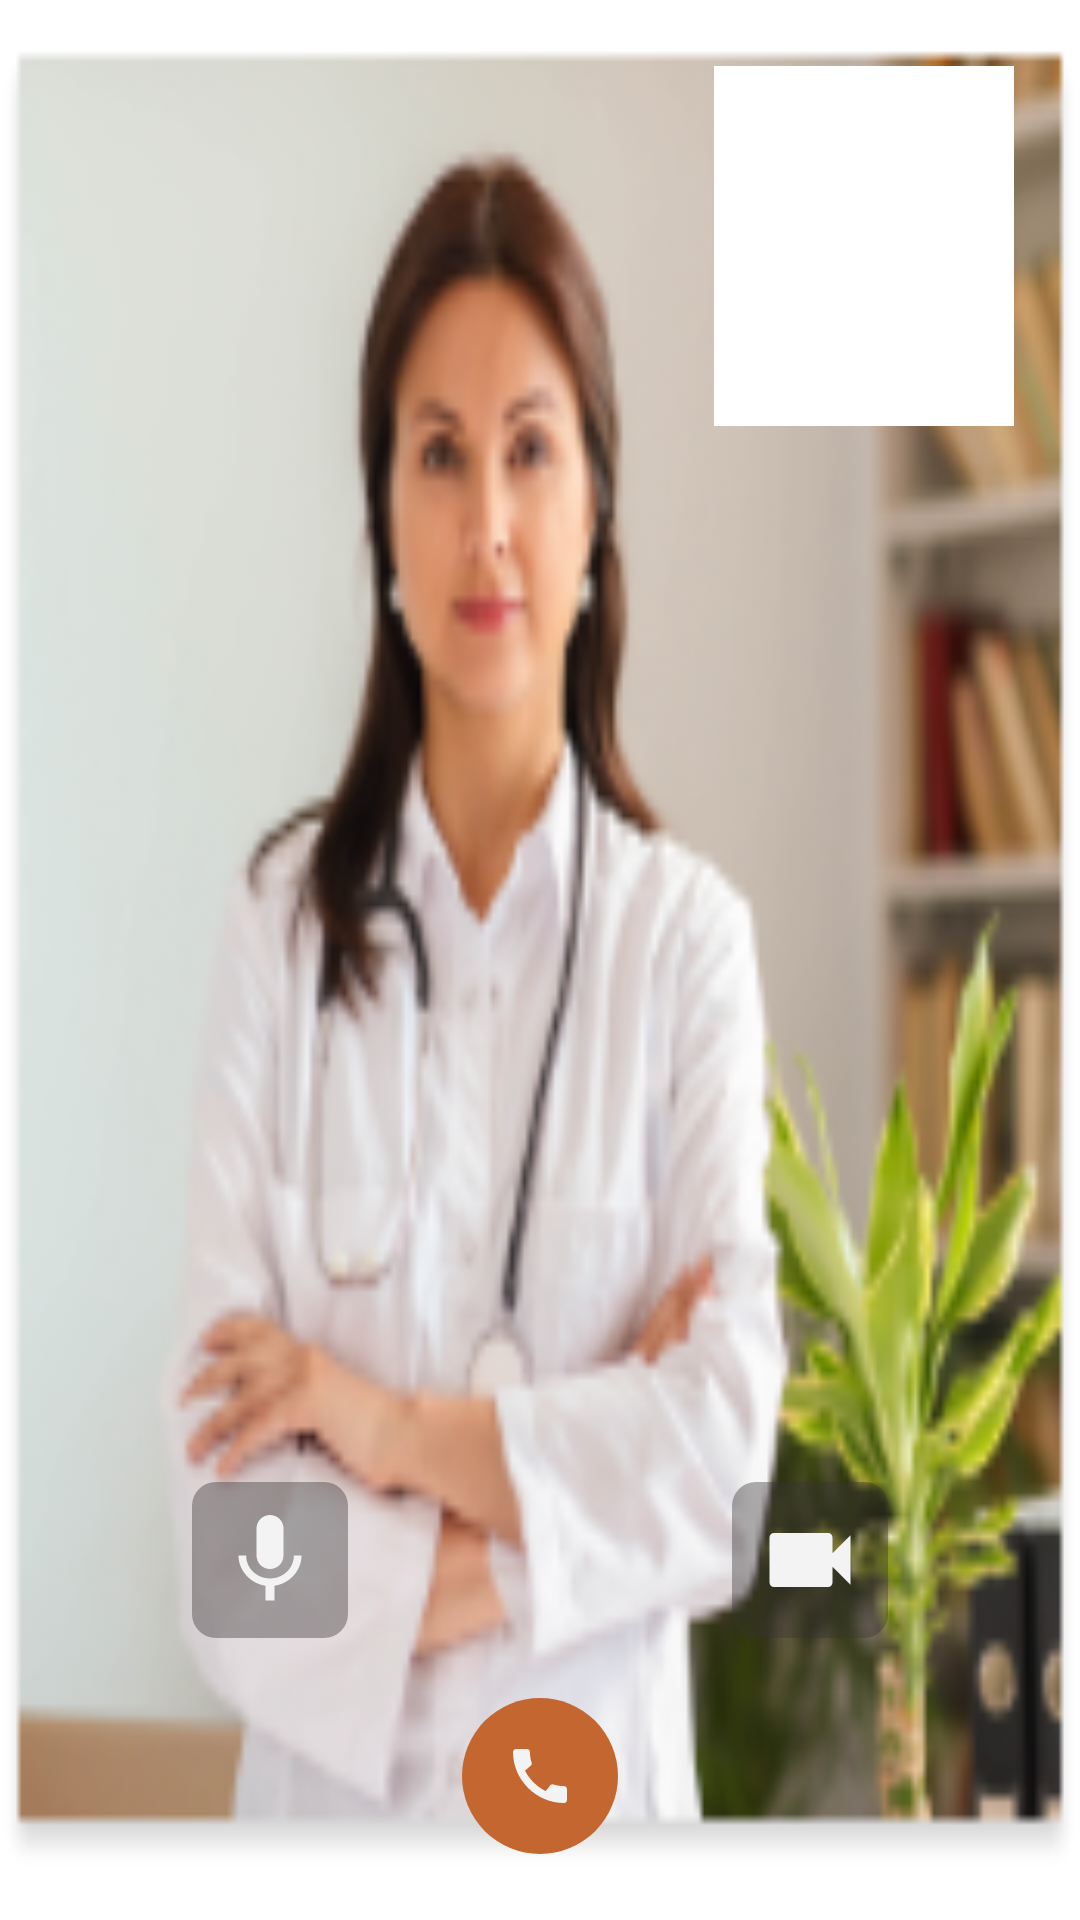

Where to tap for icons on this 1080 × 1920 app screen, as (x=x, y=y):
call: (x=540, y=1776)
mic unmute: (x=270, y=1560)
videocam on: (x=810, y=1560)
